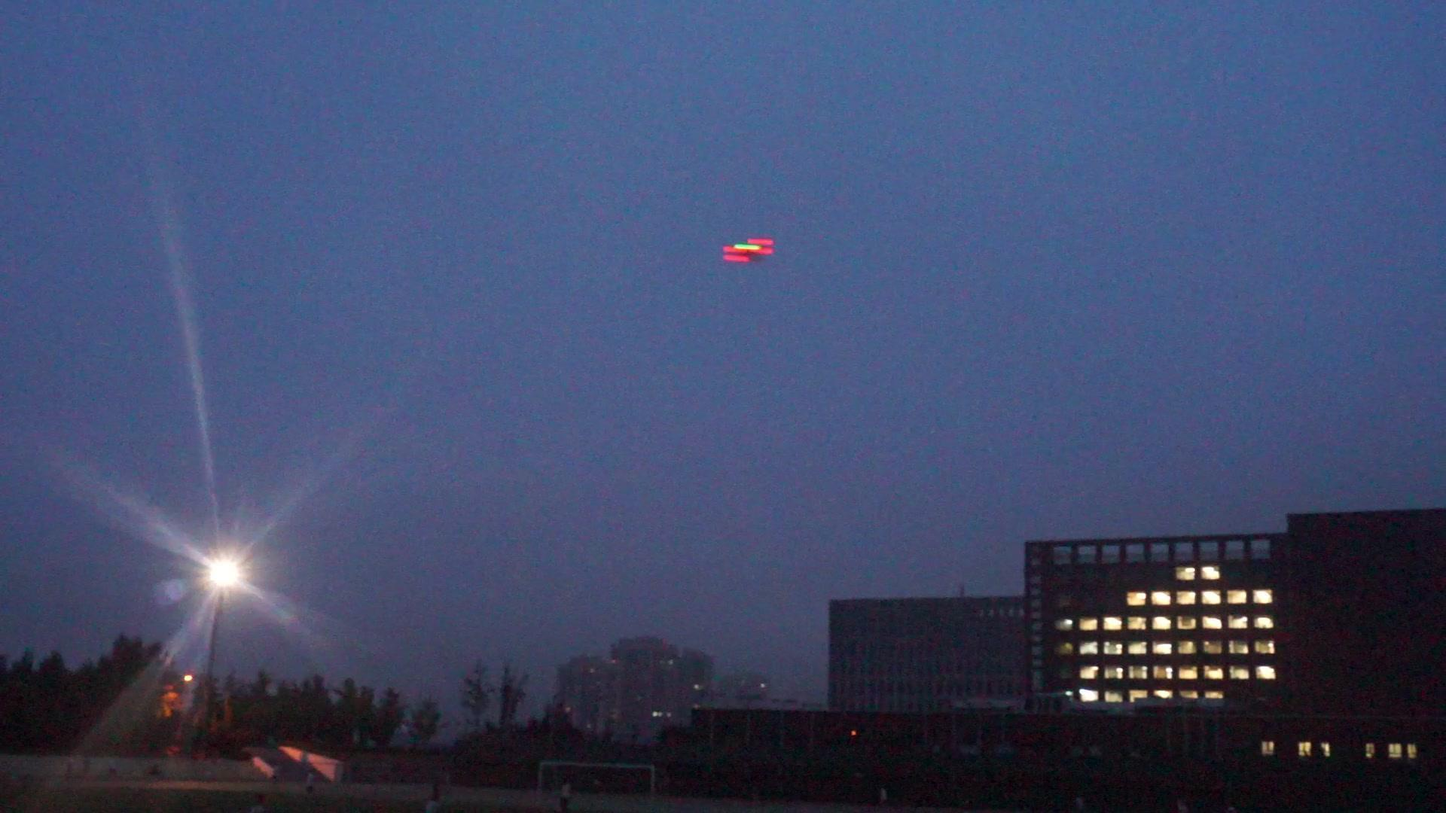UAV: (723, 239, 775, 263)
